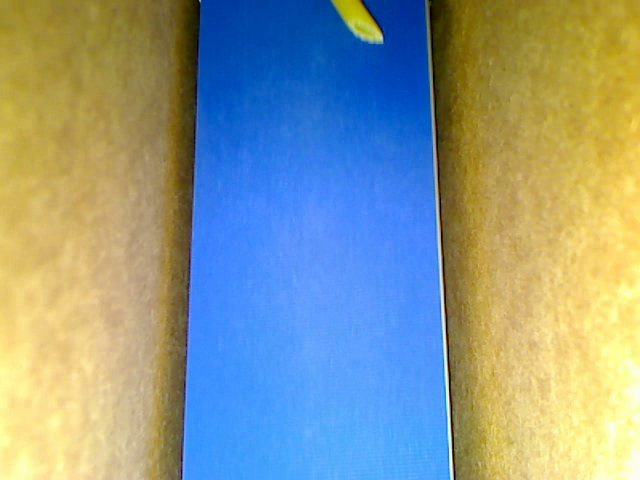penne: (330, 1, 383, 45)
